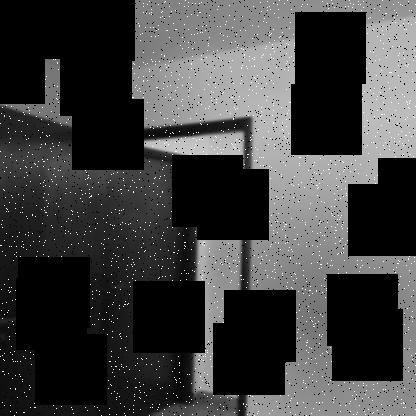Porte: (1, 105, 253, 415), (107, 142, 202, 416)
